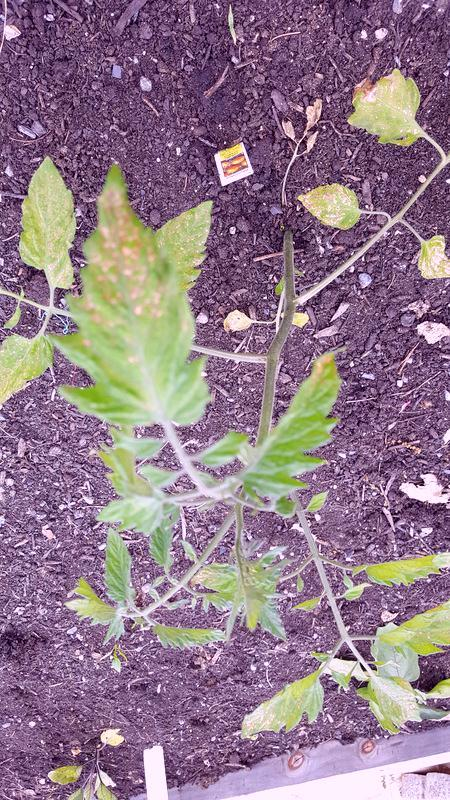Tomato leaf bacterial spot: (70, 158, 216, 460), (232, 349, 354, 504), (234, 659, 329, 746), (351, 660, 415, 737)
